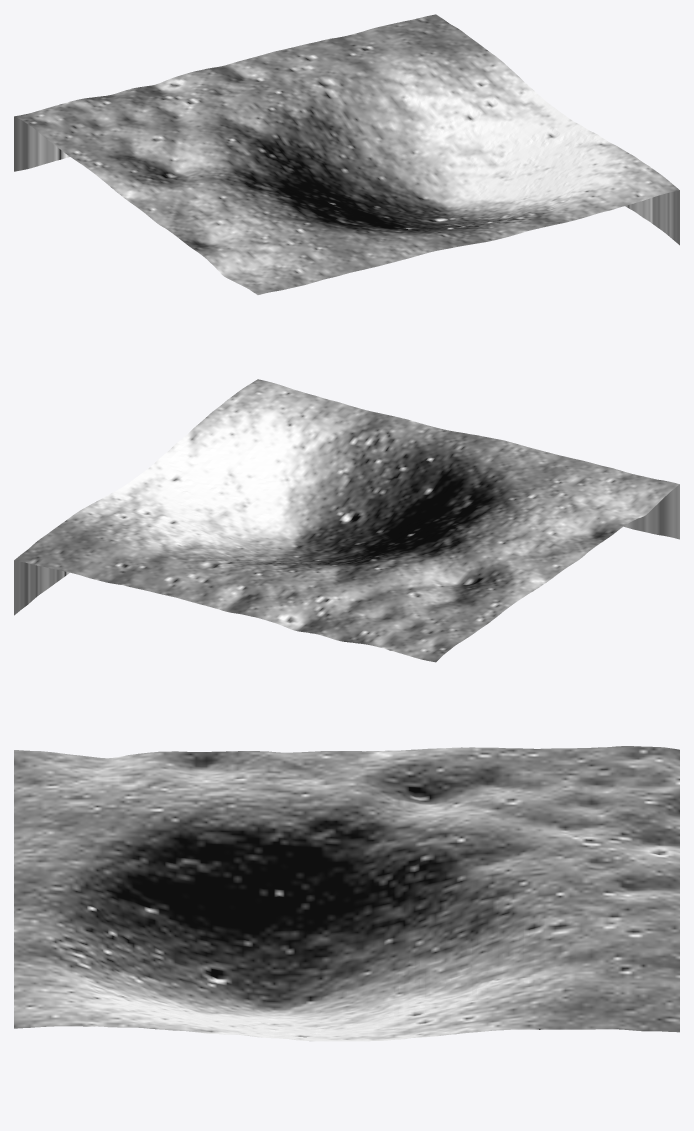
3 renders of one model, top to bottom at view 1: azimuth 30°, elevation 25°; view 2: azimuth 150°, elevation 25°; view 3: azimuth 270°, elevation 25°, orthographic. The views are drawn at different scales.
Size of the model in its own units: 639 by 96.66 by 639.
Materials: 1 (1 with a texture image).
